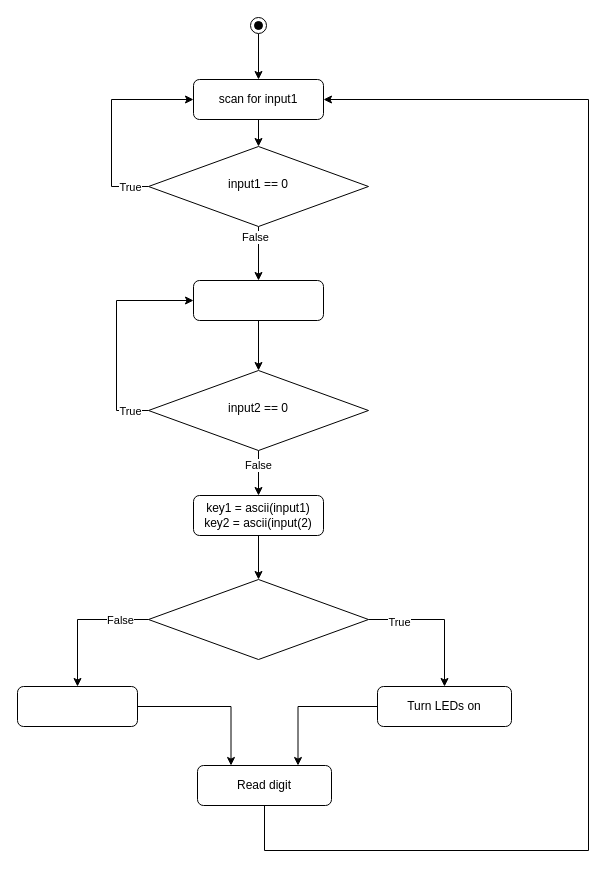
The diagram is 614 pixels wide and 876 high, and some of its shapes have lost their labels. The centre of each missing label's shape, as x and y in pixels:
Blink Leds: pixel 77 706
key1 == 'A and key2 == '1': pixel 258 619
scan for input2: pixel 258 300
